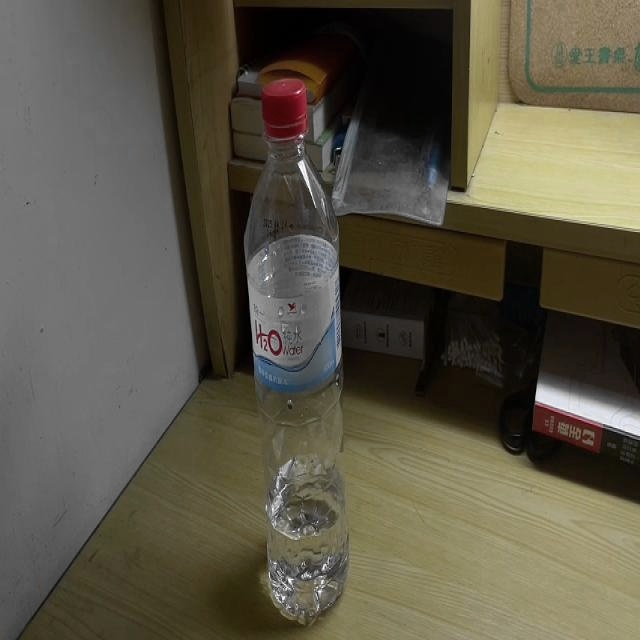Water: (242, 77, 350, 622)
